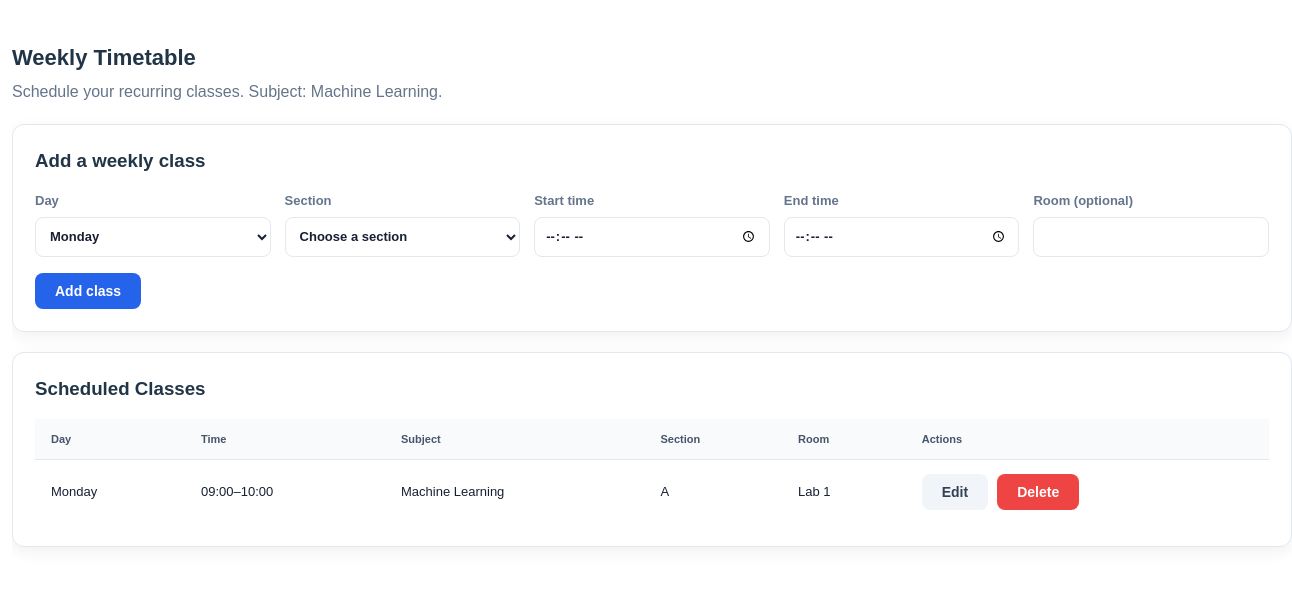
it: Faculty weekly timetable management › edits and deletes a saved class through the timetable service
Step 1. Click the button "Edit" → (955, 492), box [922,474,988,510]
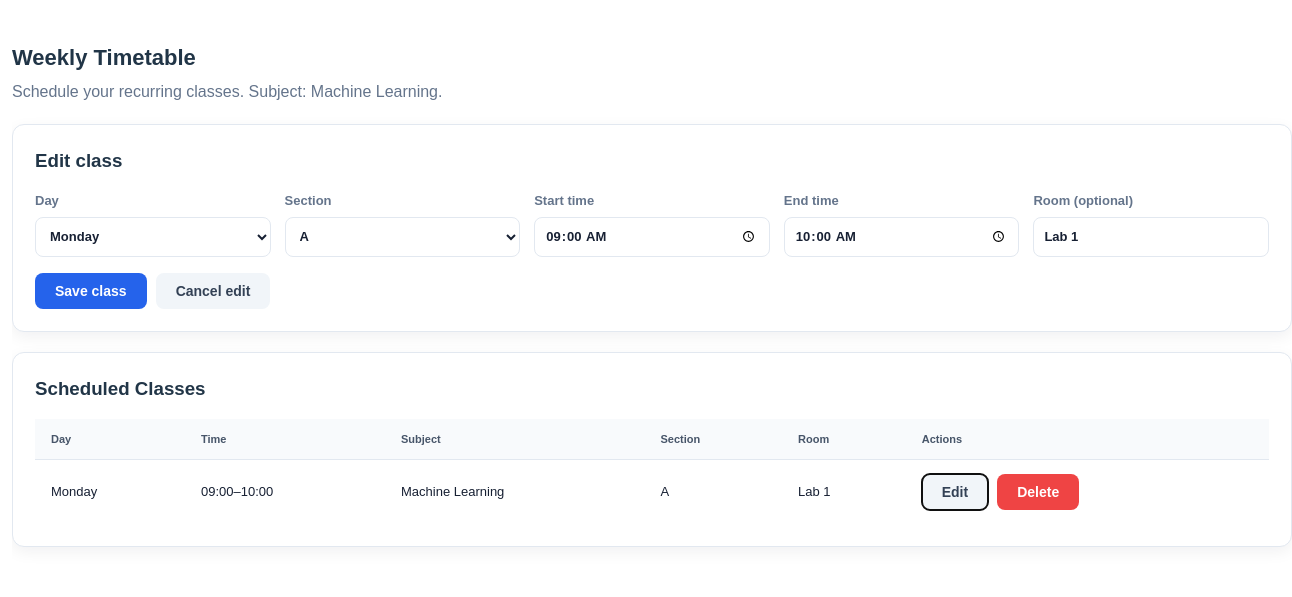
Step 2. Select "Tuesday" in the dropdown labelled "Day" → (153, 236), box [35,216,271,256]
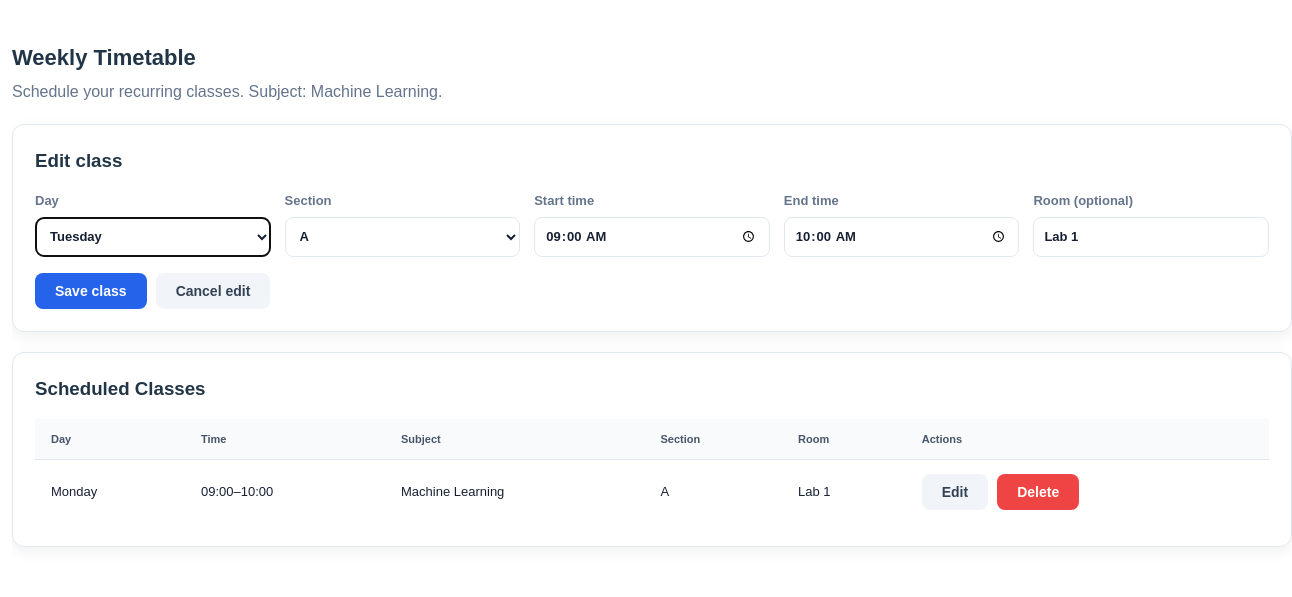
Step 3. Click the button "Save class" → (91, 290), box [35,272,147,308]
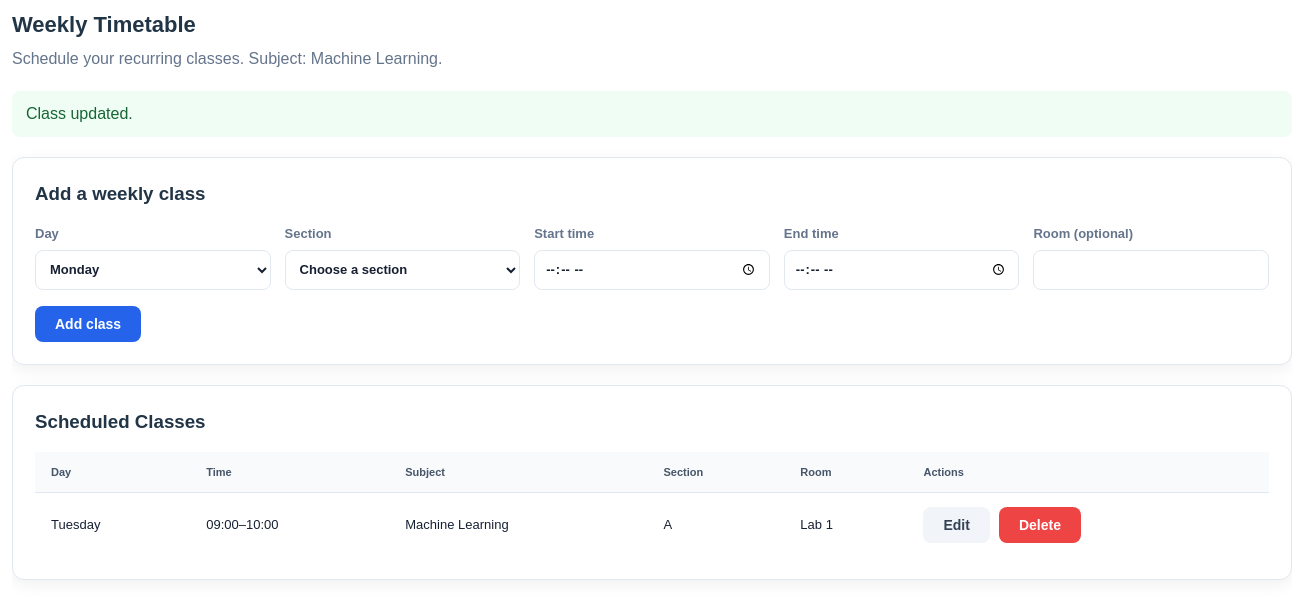
Step 4. Click the button "Delete" → (1040, 525), box [999,507,1081,543]
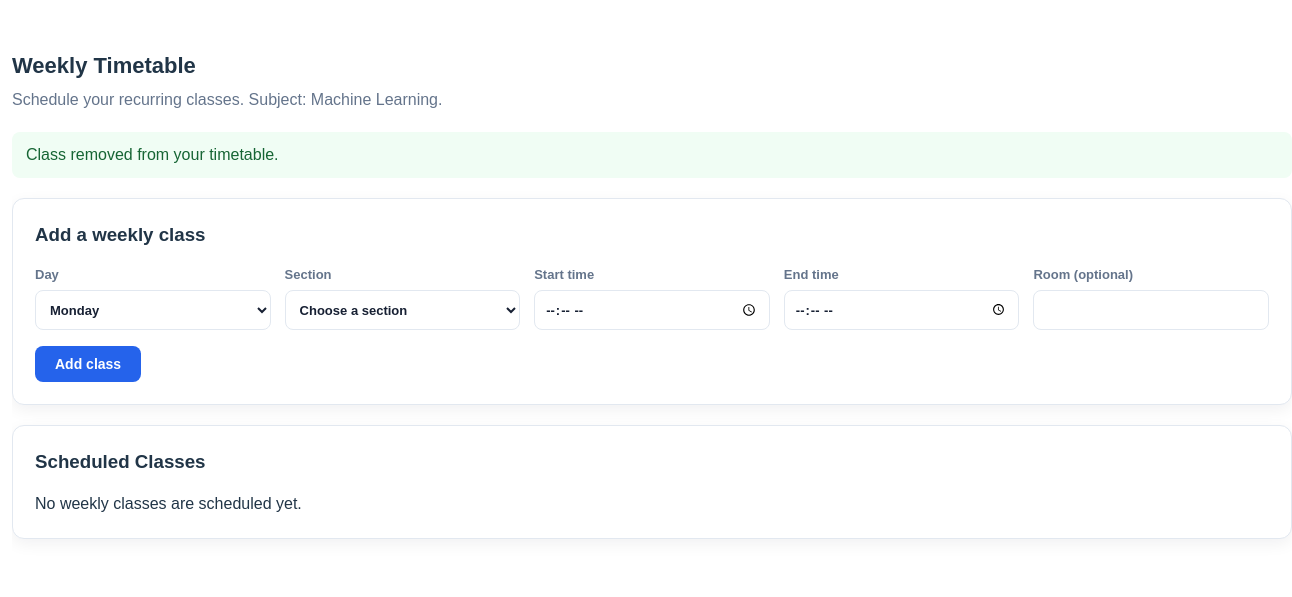
Check: the text "No weekly classes are scheduled yet." is shown, box [35,495,302,512]
